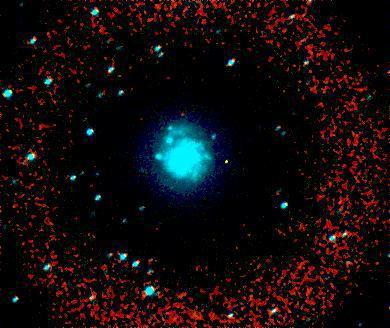star: (210, 146, 240, 176)
